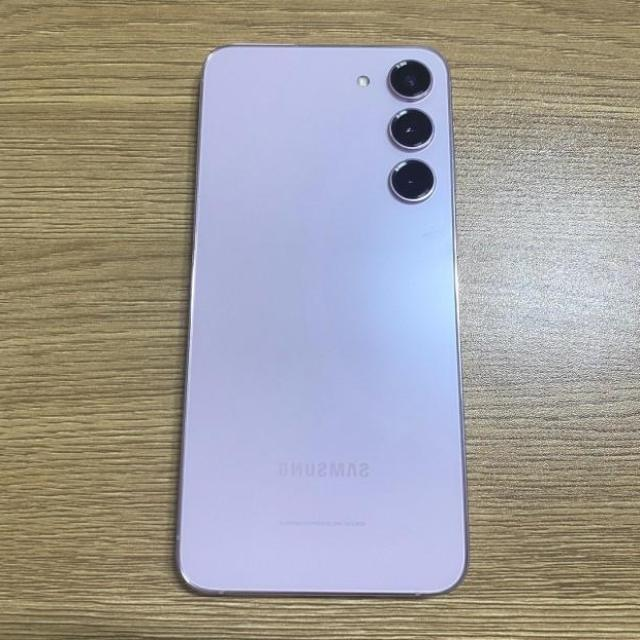mobile: (176, 46, 468, 602)
